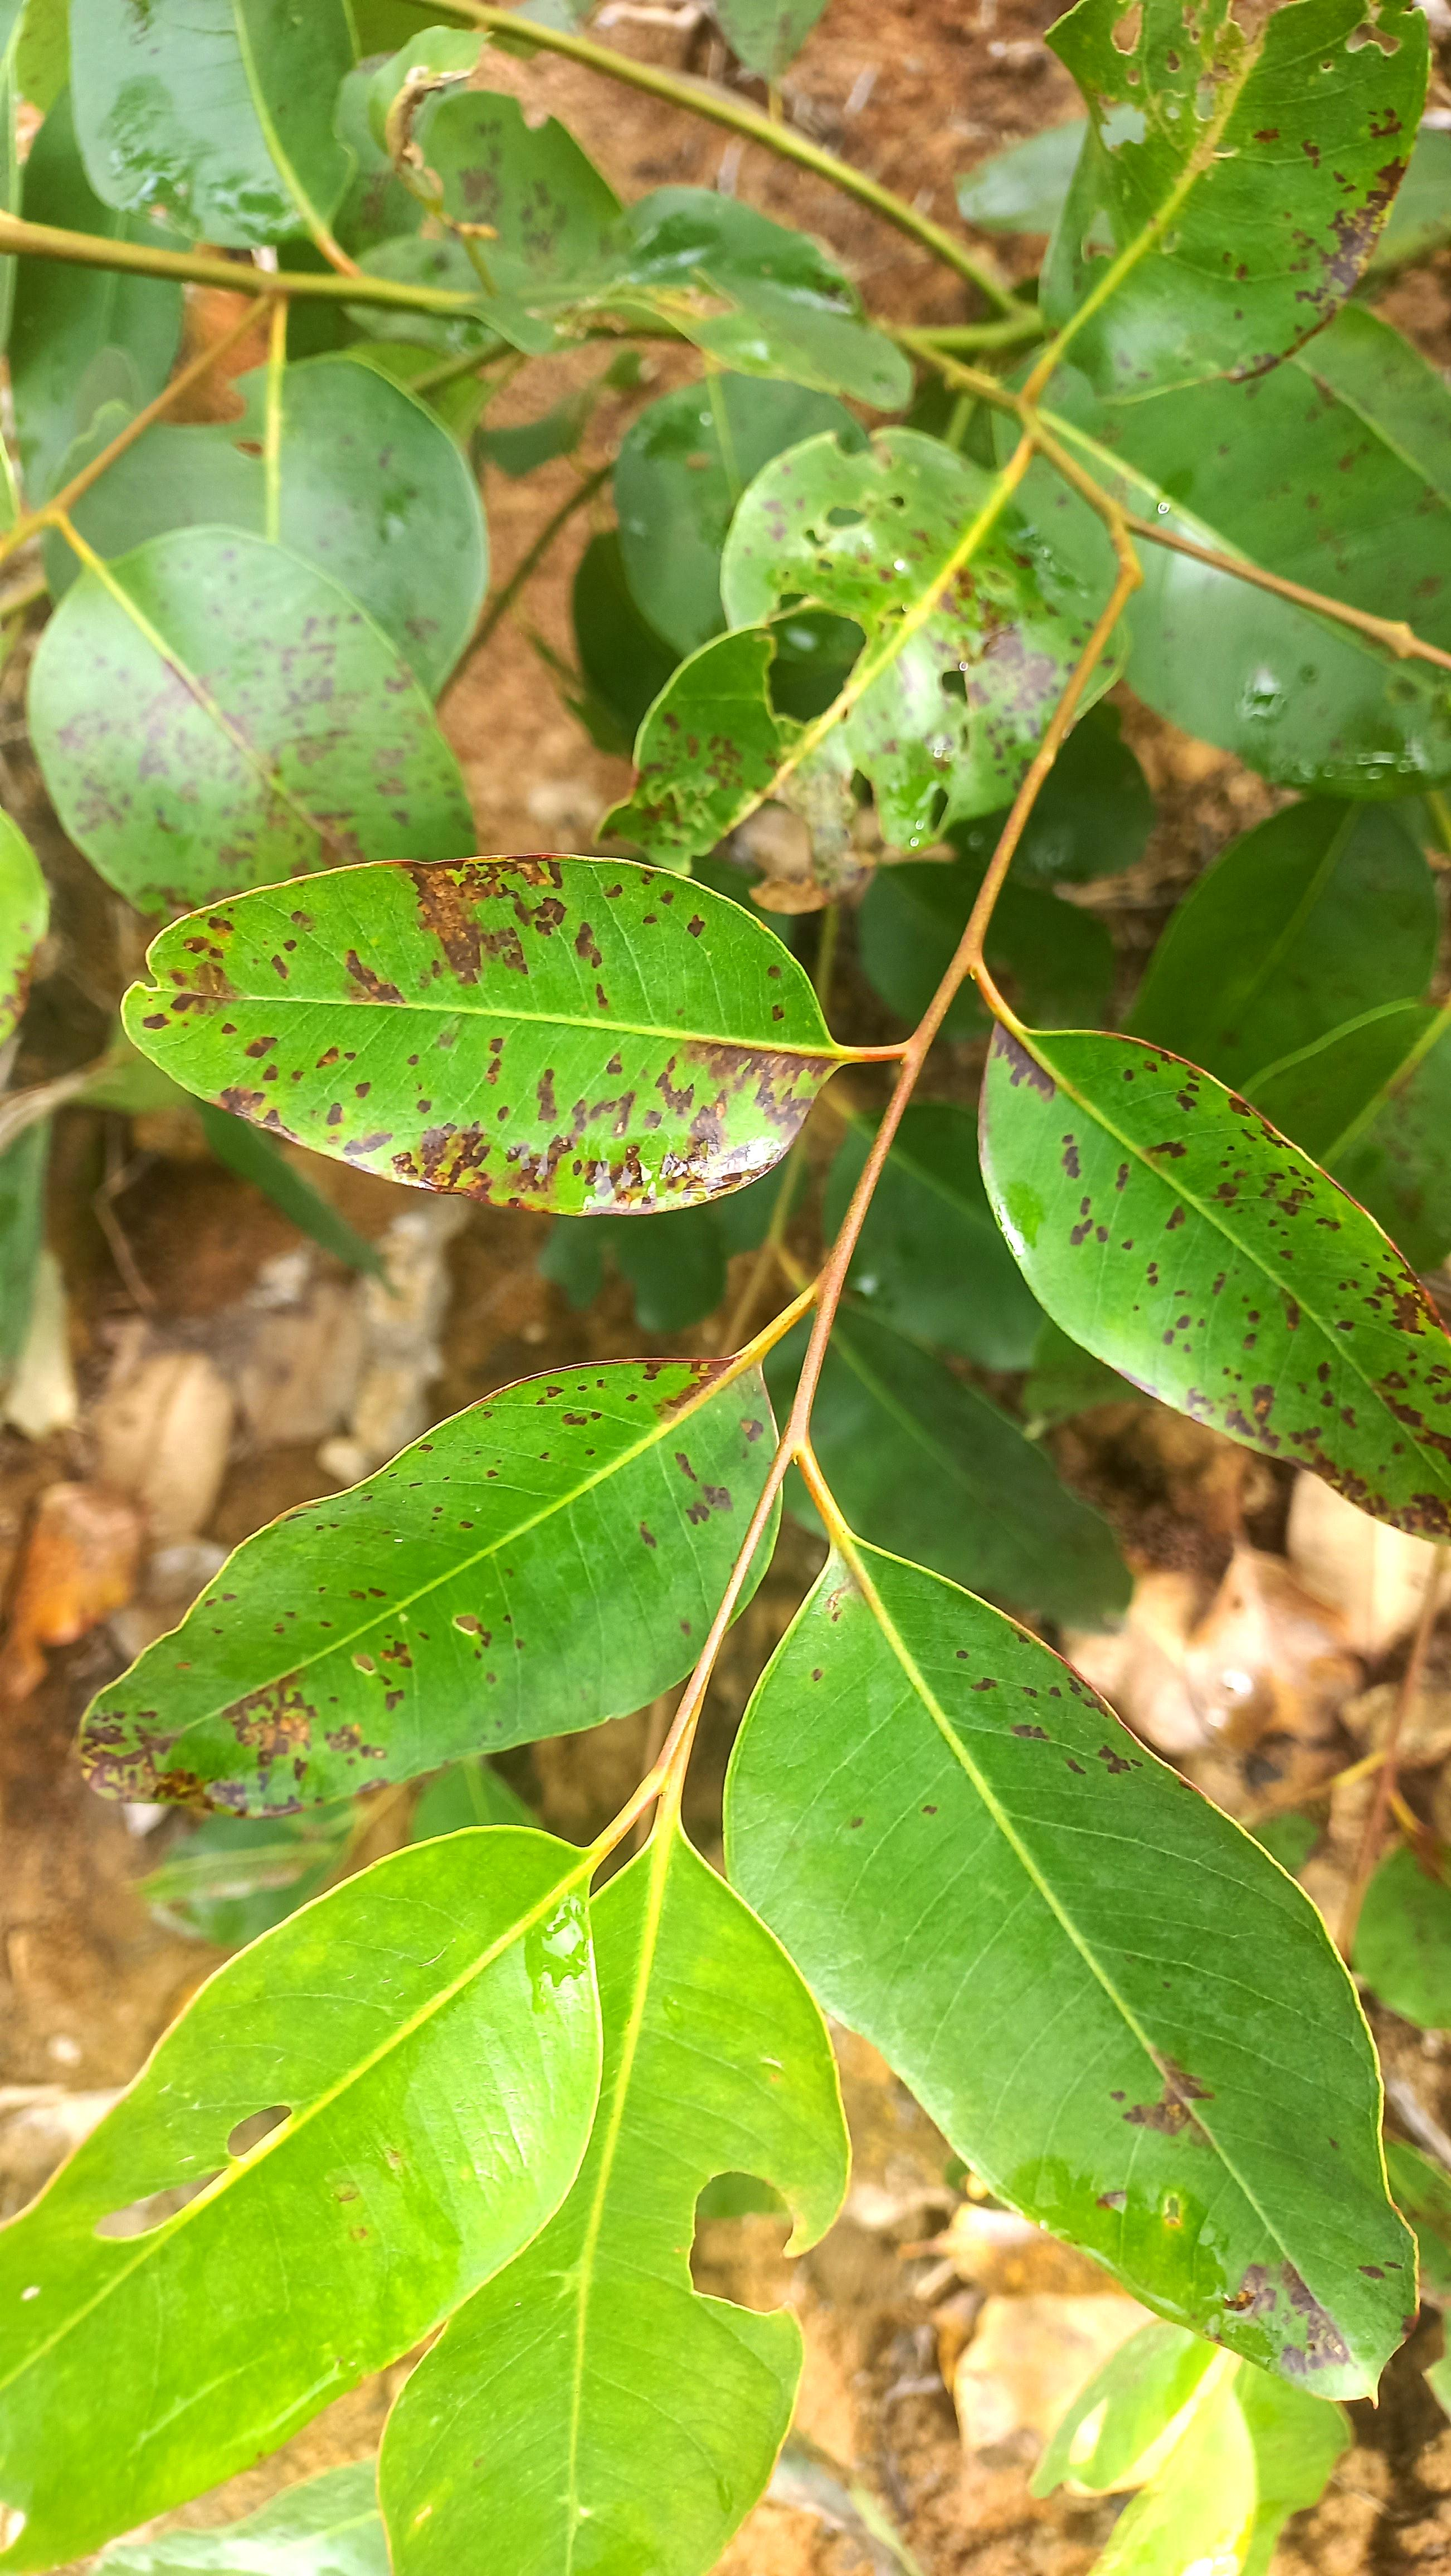Xanthomonas: (51, 1322, 798, 1865), (971, 1003, 1451, 1568), (145, 832, 814, 1219), (1060, 2017, 1380, 2396), (1216, 74, 1447, 398), (841, 502, 1104, 724)
